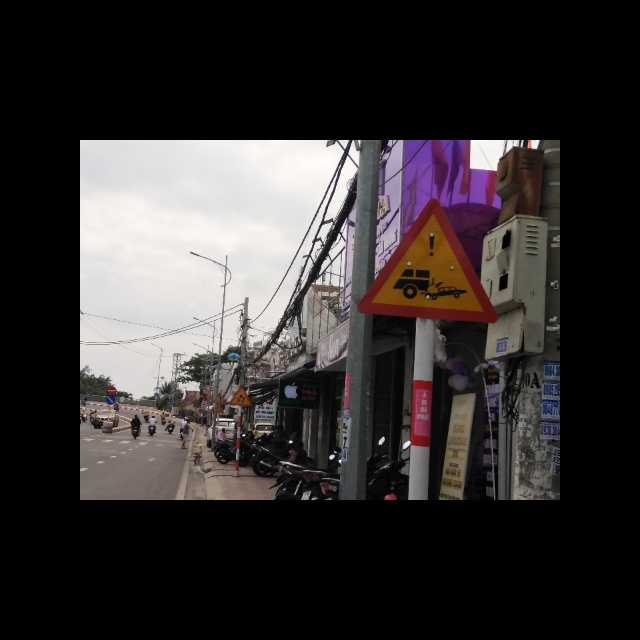Đoạn đường hay xảy ra tai nạn: (357, 198, 501, 321)
Đường đôi: (228, 384, 254, 407)
